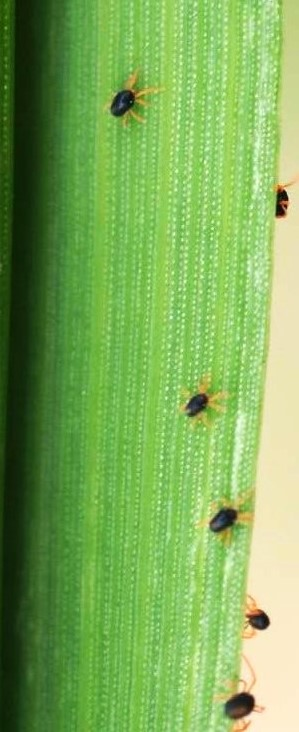Wheat Red Spider: (91, 59, 168, 137), (189, 478, 269, 551)
